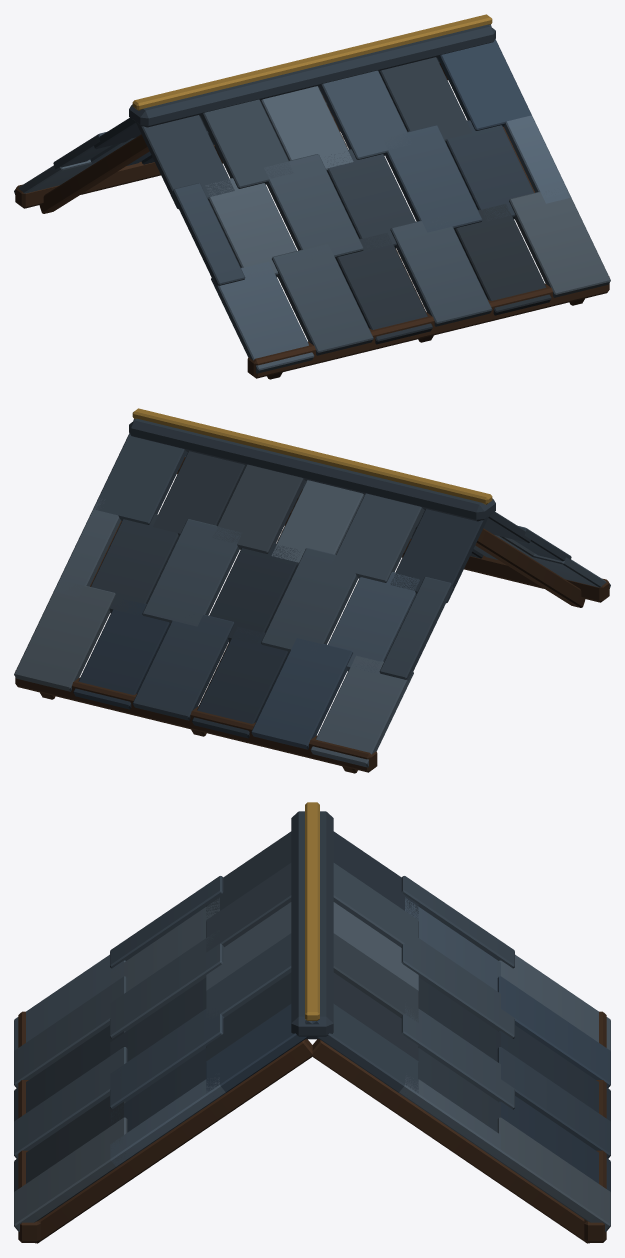
Rendered from piece_slateridge.glb.
3 renders of one model, top to bottom at view 1: azimuth 30°, elevation 25°; view 2: azimuth 150°, elevation 25°; view 3: azimuth 270°, elevation 25°, orthographic. The views are drawn at different scales.
Parts seen in each view (by area): view 1: Base; view 2: Base; view 3: Base.
Part boxes in pixels (x1,y1,x2,y2): Base: (14, 14, 610, 379); Base: (14, 408, 610, 773); Base: (14, 802, 610, 1243).
Bounding box in the file's own units: 4 × 2.15 × 4.77.
